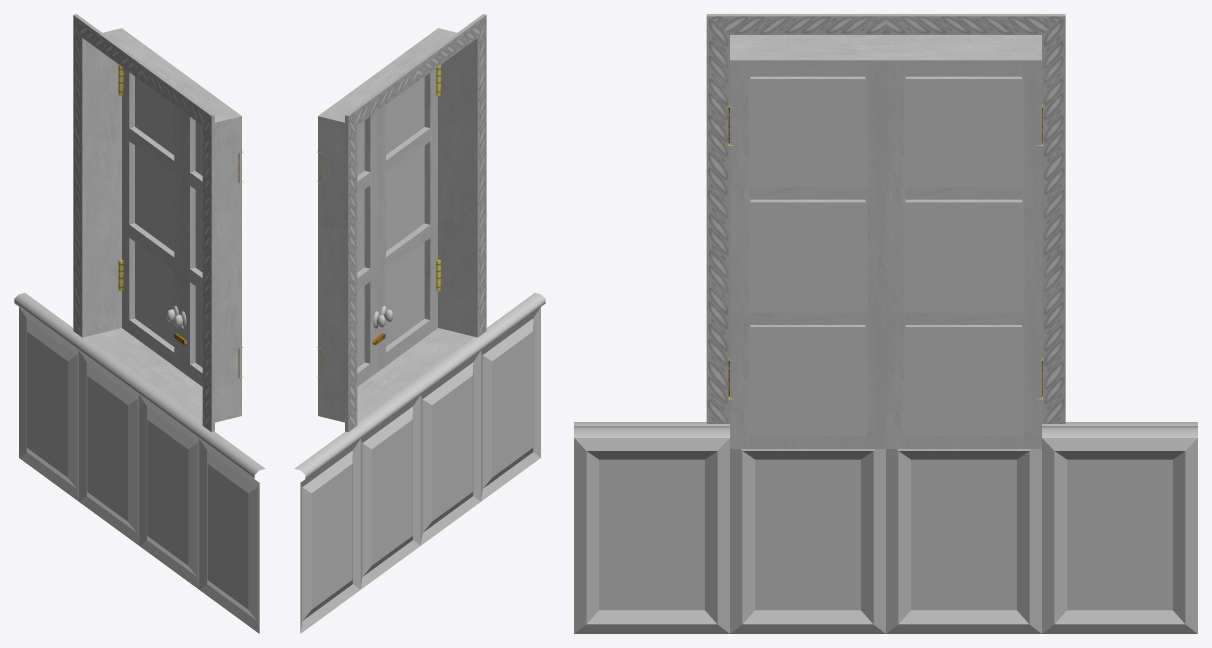
File: wood_panneling_window_white.DAE
The picture shows the model from 3 angles, left to right: view 1: azimuth 30°, elevation 25°; view 2: azimuth 150°, elevation 25°; view 3: azimuth 270°, elevation 25°; orthographic projection. The views are drawn at different scales.
Visible parts, largest first — view 1: Object011, Box016, Object012, Box017; view 2: Object011, Box016, Object012, Box017; view 3: Box016, Object012, Object011.
Part boxes in pixels (x1,y1,x2,y2): Object011: (73, 14, 241, 432); Box016: (14, 293, 265, 633); Object012: (135, 76, 202, 367); Box017: (118, 65, 243, 378); Object011: (318, 14, 486, 432); Box016: (294, 293, 545, 633); Object012: (357, 77, 424, 367); Box017: (317, 65, 441, 378); Box016: (574, 422, 1197, 633); Object012: (748, 79, 1024, 435); Object011: (706, 14, 1065, 448).
Bounding box in the file's own units: 0.5112 × 4.4 × 4.
